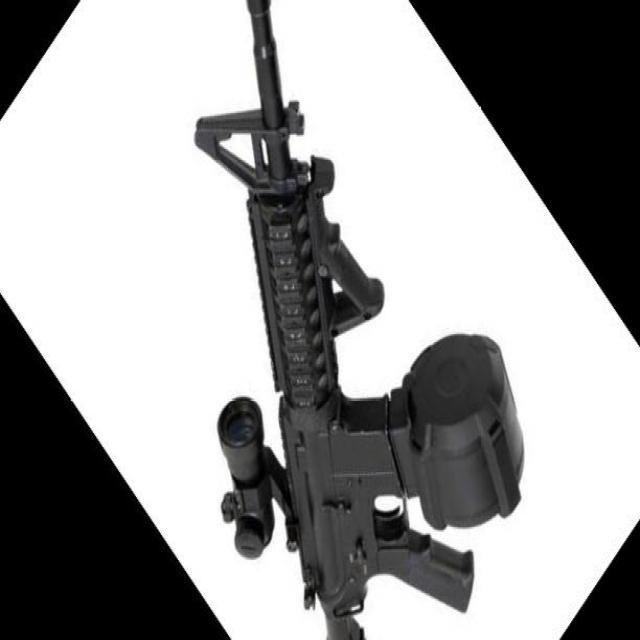weapon: (193, 0, 524, 640)
